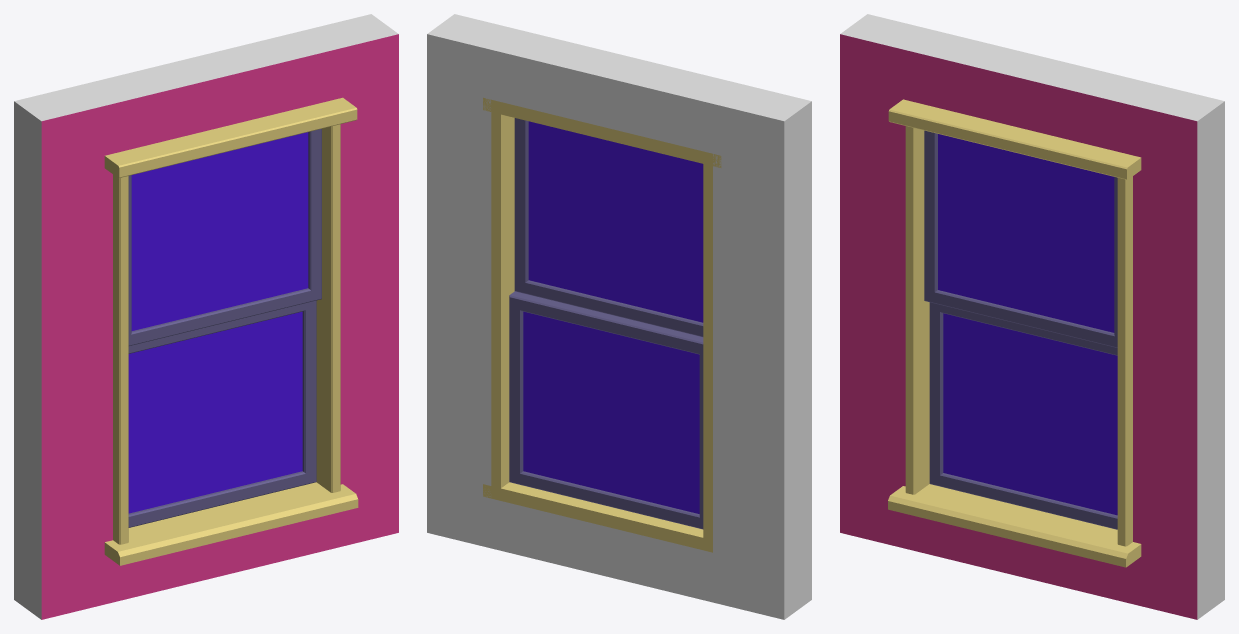
File: SM_Wall_Window_A.fbx
3 views of the same model, side by side, from view 1: azimuth 30°, elevation 25°; view 2: azimuth 150°, elevation 25°; view 3: azimuth 330°, elevation 25° (orthographic).
Parts seen in each view (by area): view 1: SM_Wall_Window_A; view 2: SM_Wall_Window_A; view 3: SM_Wall_Window_A.
Part boxes in pixels (left/top/right/bottom): SM_Wall_Window_A: left=14, top=14, right=398, bottom=619; SM_Wall_Window_A: left=427, top=14, right=811, bottom=619; SM_Wall_Window_A: left=840, top=14, right=1224, bottom=619.
Size of the model in its own units: 150 by 200 by 31.14.
